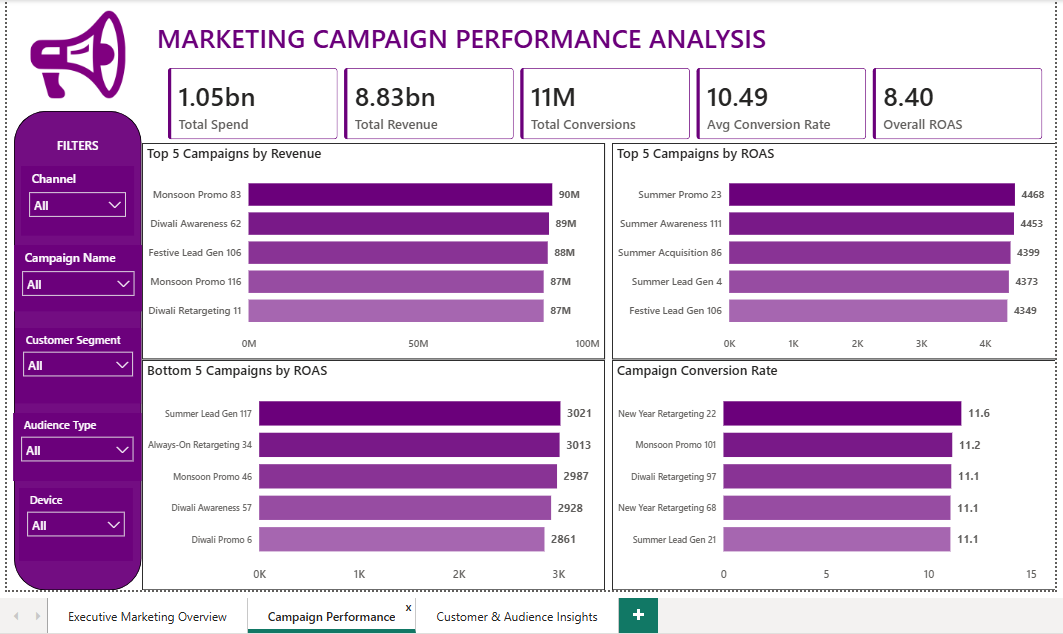

The page's visual inventory and layout, read from the dashboard file:
{"tool":"powerbi","page":{"name":"Campaign Performance","canvas":[1280,720],"ordinal":1},"visuals":[{"type":"image","box":[8.5,8.5,156.2,115.9],"z":0},{"type":"shape","box":[8.3,134.9,155.5,584.9],"z":1000},{"type":"slicer","fields":{"Values":["cleaned_campaigns.Channel"]},"box":[16.5,202.3,137.6,85.3],"z":2000},{"type":"slicer","fields":{"Values":["cleaned_campaigns.Campaign_Name"]},"box":[8.3,298.7,156.9,81.2],"z":3000},{"type":"slicer","fields":{"Values":["cleaned_customers.Customer_Segment"]},"box":[9.6,400.5,154.2,92.2],"z":4000},{"type":"slicer","fields":{"Values":["cleaned_performance.Audience_Type"]},"box":[6.9,503.7,156.9,82.6],"z":5000},{"type":"slicer","fields":{"Values":["cleaned_performance.Device"]},"box":[15.1,596,139,89.5],"z":6000},{"type":"textbox","box":[178.7,18.7,1101.3,65.3],"z":7000},{"type":"cardVisual","fields":{"Data":["cleaned_performance.Total Spend","cleaned_performance.Total Revenue","cleaned_performance.Total Conversions","cleaned_performance.Avg Conversion Rate","cleaned_performance.Overall ROAS"]},"box":[178.9,66.1,1101.1,121.1],"z":8000},{"type":"barChart","title":"Top 5 Campaigns by Revenue","fields":{"Category":["cleaned_campaigns.Campaign_Name"],"Y":["cleaned_performance.Total Revenue"]},"box":[164.7,174.5,565,263.6],"z":9000},{"type":"barChart","title":"Top 5 Campaigns by ROAS","fields":{"Category":["cleaned_campaigns.Campaign_Name"],"Y":["Sum(cleaned_performance.ROAS)"]},"box":[738.3,174.5,541.8,263.6],"z":10000},{"type":"barChart","title":"Bottom 5 Campaigns by ROAS","fields":{"Y":["Sum(cleaned_performance.ROAS)"],"Category":["cleaned_campaigns.Campaign_Name"]},"box":[165,439,565,281],"z":11000},{"type":"barChart","title":"Campaign Conversion Rate","fields":{"Y":["cleaned_performance.Conversion Rate"],"Category":["cleaned_campaigns.Campaign_Name"]},"box":[738,439,542,281],"z":12000}]}

Visuals, with their boxes on the page's 1280x720 design canvas (x1, y1, x2, y2). These are canvas units, not pixel positions in the 1063x634 screenshot, which may show the page scaled, cropped or inside an application window:
image: 8/8/165/124
shape: 8/135/164/720
slicer - cleaned_campaigns.Channel: 16/202/154/288
slicer - cleaned_campaigns.Campaign_Name: 8/299/165/380
slicer - cleaned_customers.Customer_Segment: 10/400/164/493
slicer - cleaned_performance.Audience_Type: 7/504/164/586
slicer - cleaned_performance.Device: 15/596/154/686
textbox: 179/19/1280/84
cardVisual - cleaned_performance.Total Spend x cleaned_performance.Total Revenue: 179/66/1280/187
"Top 5 Campaigns by Revenue" barChart: 165/174/730/438
"Top 5 Campaigns by ROAS" barChart: 738/174/1280/438
"Bottom 5 Campaigns by ROAS" barChart: 165/439/730/720
"Campaign Conversion Rate" barChart: 738/439/1280/720
